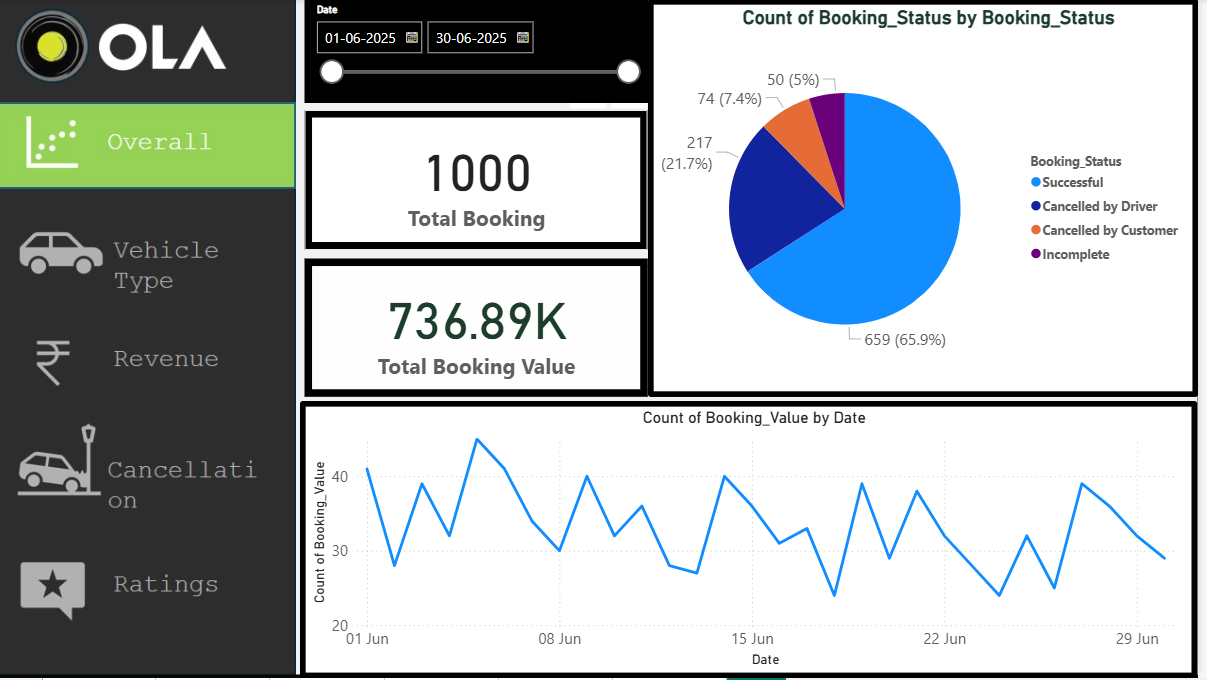

The page's visual inventory and layout, read from the dashboard file:
{"tool":"powerbi","page":{"name":"Page 1","canvas":[1280,720],"ordinal":0},"visuals":[{"type":"card","fields":{"Values":["CountNonNull(OLA_Booking.Booking_Status)"]},"box":[332.4,117.7,364.2,147.9],"z":0},{"type":"actionButton","box":[20,208.3,278.3,111.7],"z":1000},{"type":"actionButton","box":[30,218.3,278.3,111.7],"z":2000},{"type":"actionButton","box":[20,228.3,288.3,101.7],"z":3000},{"type":"actionButton","box":[21.7,446.7,288.3,101.7],"z":4000},{"type":"actionButton","box":[26.7,358.3,288.3,101.7],"z":5000},{"type":"actionButton","box":[21.7,588.3,288.3,101.7],"z":6000},{"type":"card","fields":{"Values":["Sum(OLA_Booking.Booking_Value)"]},"box":[332.4,275.2,364.2,146.3],"z":7000},{"type":"pieChart","fields":{"Category":["OLA_Booking.Booking_Status"],"Y":["CountNonNull(OLA_Booking.Booking_Status)"]},"box":[696.7,0,583.3,421.7],"z":8000},{"type":"lineChart","fields":{"Y":["CountNonNull(OLA_Booking.Booking_Value)"],"Category":["OLA_Booking.Date"]},"box":[328.1,426.6,951.6,293.8],"z":9000},{"type":"slicer","fields":{"Values":["OLA_Booking.Date"]},"box":[332.4,0,364.2,109.8],"z":10000}]}

Visuals, with their boxes in screenshot pixels (x1, y1, x2, y2), scaled from the page's 1280x720 canvas onto the 1207x680 screenshot:
card - CountNonNull(OLA_Booking.Booking_Status): <box>313,111,657,251</box>
actionButton: <box>19,197,281,302</box>
actionButton: <box>28,206,291,312</box>
actionButton: <box>19,216,291,312</box>
actionButton: <box>20,422,292,518</box>
actionButton: <box>25,338,297,434</box>
actionButton: <box>20,556,292,652</box>
card - Sum(OLA_Booking.Booking_Value): <box>313,260,657,398</box>
pieChart - OLA_Booking.Booking_Status x CountNonNull(OLA_Booking.Booking_Status): <box>657,0,1206,398</box>
lineChart - CountNonNull(OLA_Booking.Booking_Value) x OLA_Booking.Date: <box>309,403,1206,679</box>
slicer - OLA_Booking.Date: <box>313,0,657,104</box>
